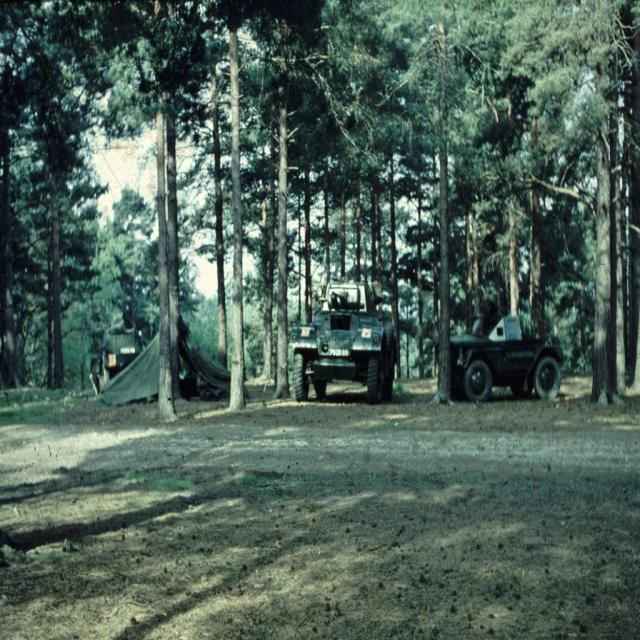tank: (289, 277, 399, 396)
